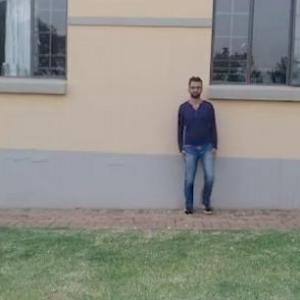follow: (177, 74, 220, 216)
